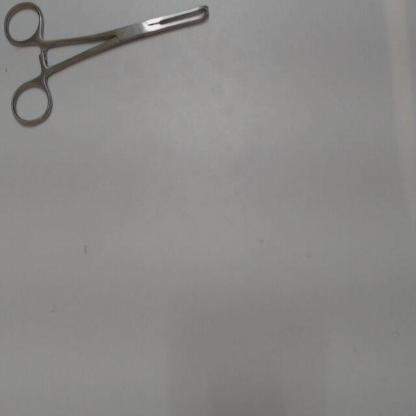Allis Tissue Forceps: (0, 0, 218, 133)
